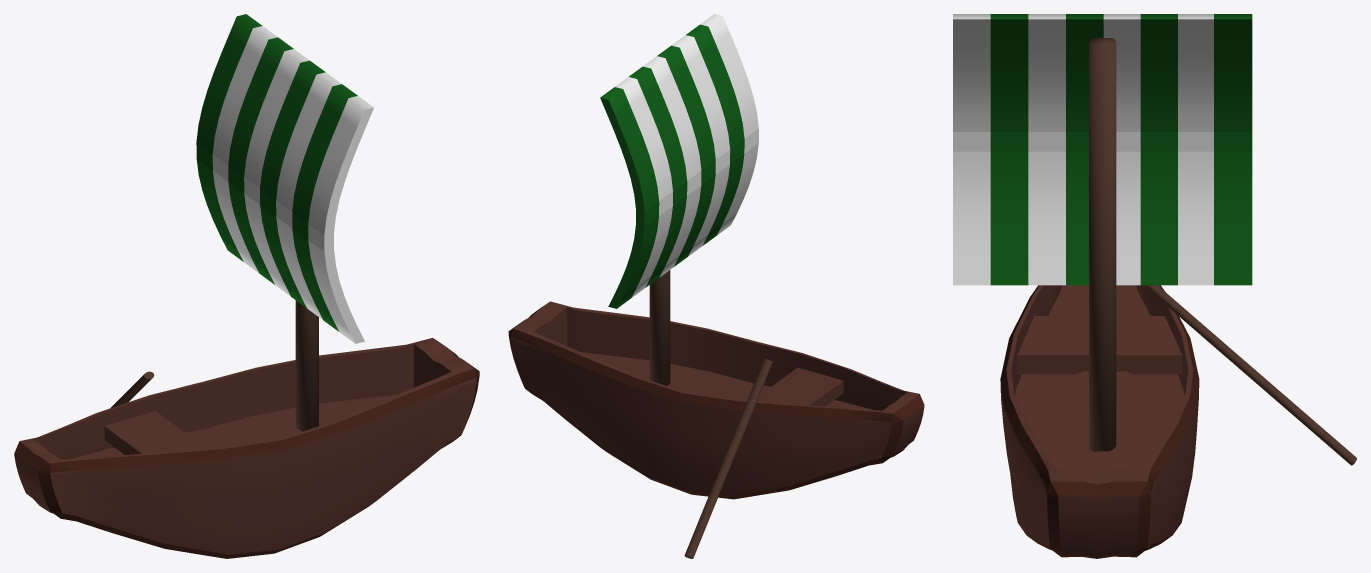
File: boat 1.fbx
The picture shows the model from 3 angles, left to right: view 1: azimuth 30°, elevation 25°; view 2: azimuth 150°, elevation 25°; view 3: azimuth 270°, elevation 25°; orthographic projection. The views are drawn at different scales.
Visible parts, largest first — view 1: Cube.002, Cube.003, Cylinder.001; view 2: Cube.002, Cube.003, Cylinder.001, Cylinder.002; view 3: Cube.003, Cube.002, Cylinder.001, Cylinder.002.
Part boxes in pixels (left/top/right/bottom): Cube.002: left=14, top=338, right=479, bottom=558; Cube.003: left=196, top=14, right=373, bottom=343; Cylinder.001: left=295, top=300, right=318, bottom=431; Cube.002: left=508, top=301, right=924, bottom=499; Cube.003: left=600, top=14, right=758, bottom=308; Cylinder.001: left=649, top=270, right=670, bottom=385; Cylinder.002: left=684, top=359, right=772, bottom=558; Cube.003: left=953, top=14, right=1252, bottom=285; Cube.002: left=1000, top=285, right=1199, bottom=558; Cylinder.001: left=1089, top=38, right=1116, bottom=451; Cylinder.002: left=1143, top=285, right=1356, bottom=465.
Bounding box in the file's own units: 1070 × 1061 × 733.
